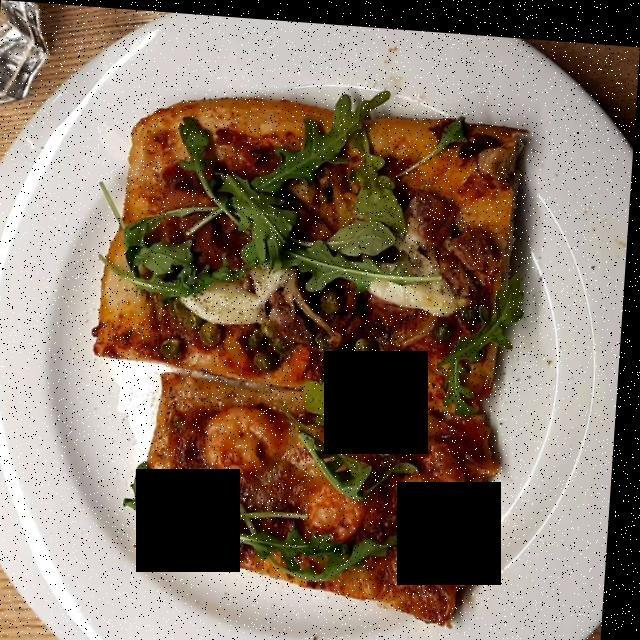capers: (170, 270, 495, 361)
pizza: (113, 127, 515, 608)
salad: (99, 87, 530, 577)
shrimp: (211, 409, 464, 531)
